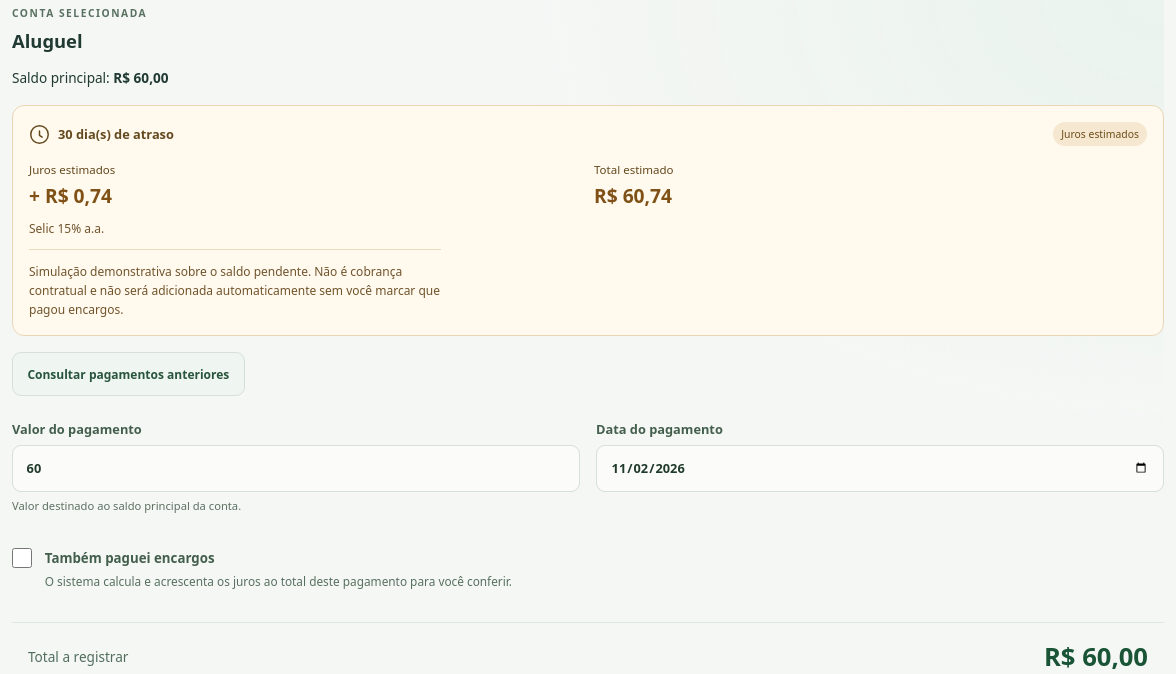
desmarcar a opção remove os encargos do total e do envio
The width and height of the screenshot is (1176, 674).
Later steps or results of the test are not shown.
Click the checkbox labelled "Também paguei encargos" at (22, 558), box [12,548,32,568]
Wait 300 ms
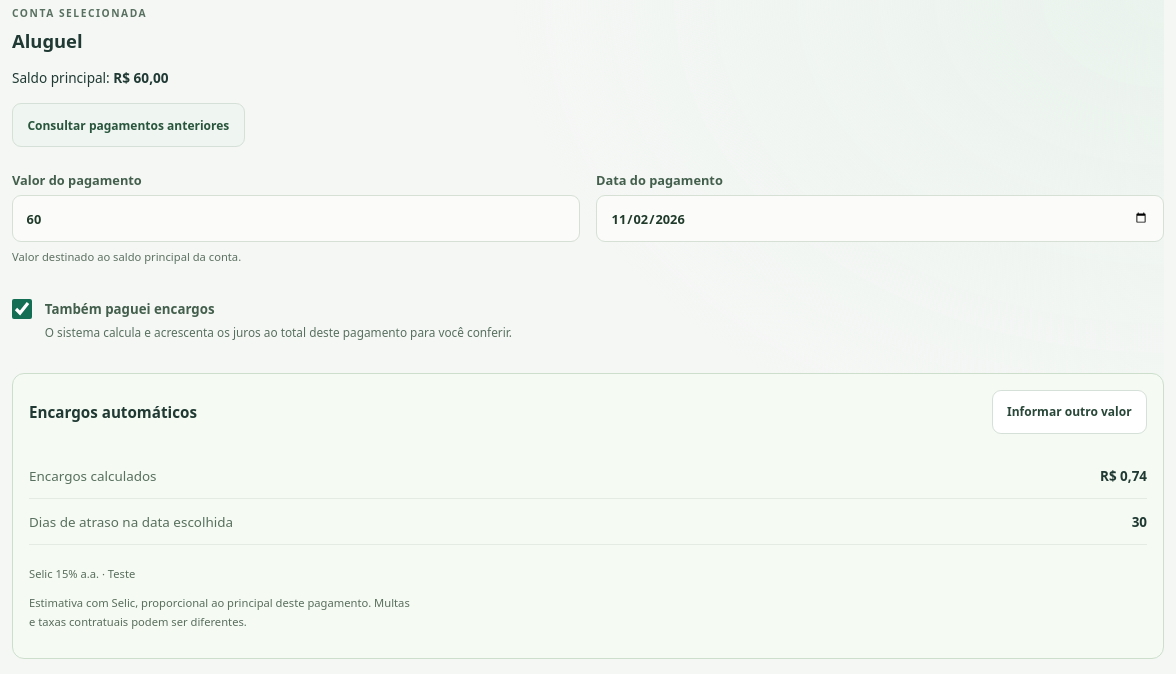
Click the checkbox labelled "Também paguei encargos" at (22, 309), box [12,299,32,319]
(page scrolled)
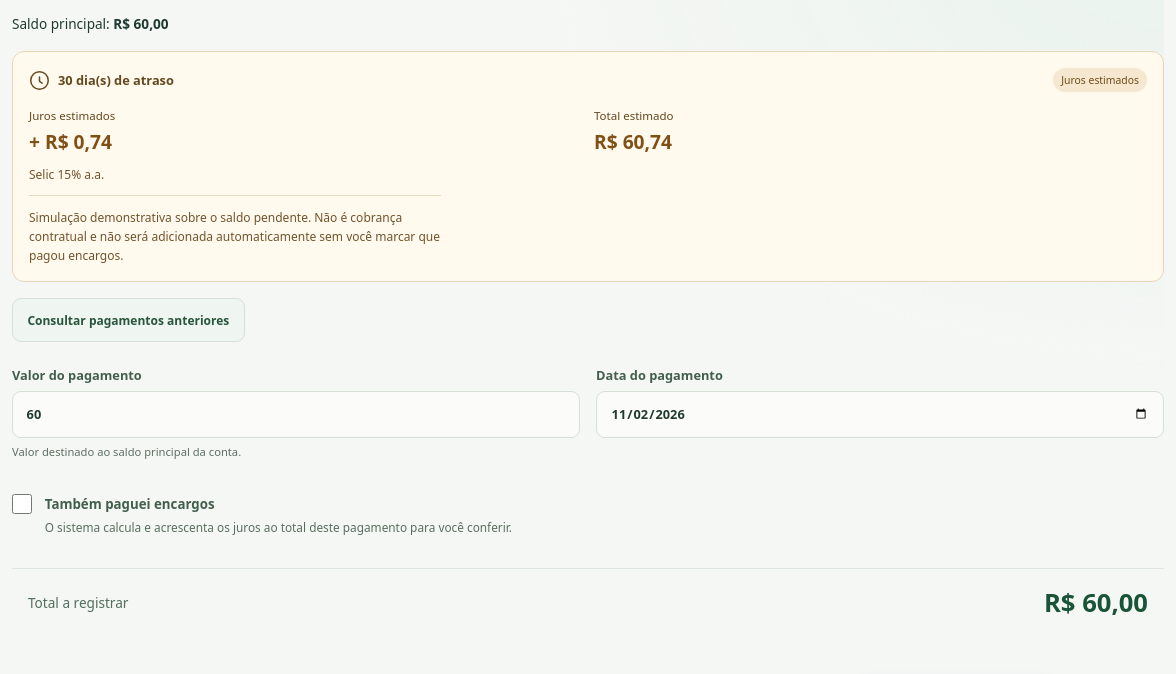
Check: the element showing "Total a registrar R$ 60,00" is shown, box [12,568,1164,636]
